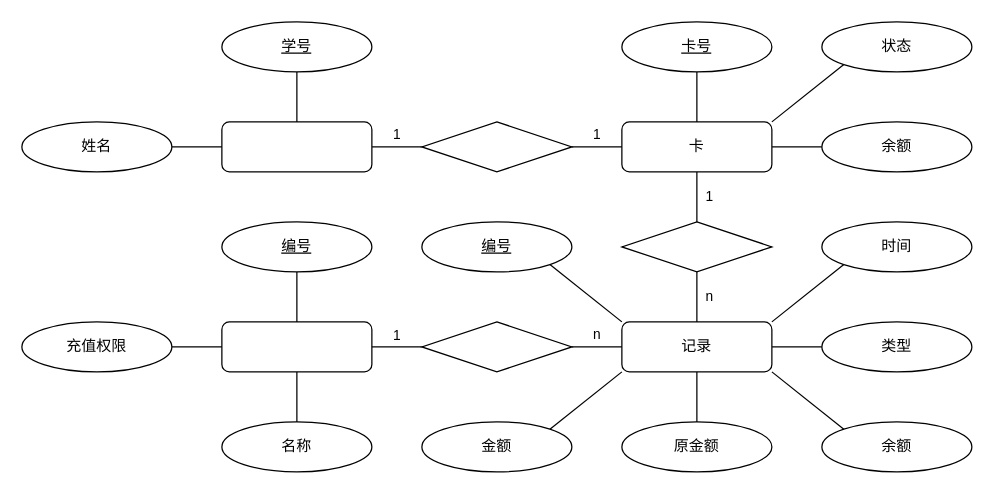
Some shapes in this 994 by 494 pixel diagram are drawn without their labels. Each missing label, with the centre of its shape:
产生: the point at 496,346
存储: the point at 696,246
用户: the point at 296,146
绑定: the point at 496,146
设备名: the point at 296,346
